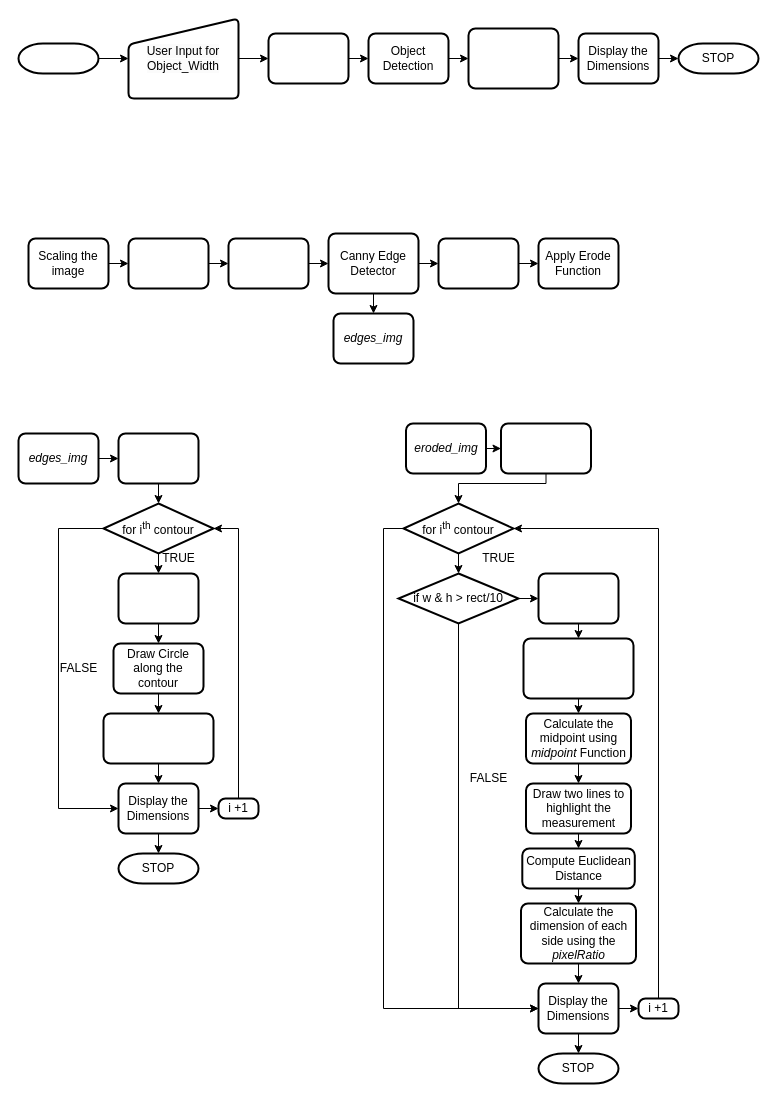
The diagram is 776 pixels wide and 1101 high, and some of its shapes have lost their labels. The box of each missing label's shape, as (x1, y1, x2, y2) in pixels:
Apply Dilate Function: (437, 237, 519, 289)
Apply Grayscale: (127, 237, 209, 289)
Apply Hough Transform: (117, 432, 199, 484)
Calculate Radius and Diameter using the pixelRatio: (102, 712, 214, 764)
Calculate the Dimensions of the object: (467, 27, 559, 89)
Determine all four vertices and assign them as tl, tr, br, bl: (522, 637, 634, 699)
Determine Center & Radius: (117, 572, 199, 624)
Draw line between the two vertices: (537, 572, 619, 624)
Find Contours: (500, 422, 592, 474)
Image Processing: (267, 32, 349, 84)
Pass through Gaussian Filter: (227, 237, 309, 289)
START: (17, 42, 99, 74)
